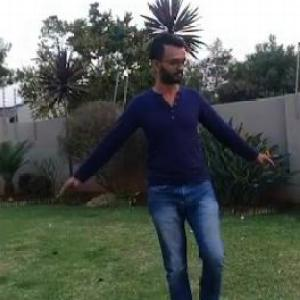land: (94, 12, 248, 270)
